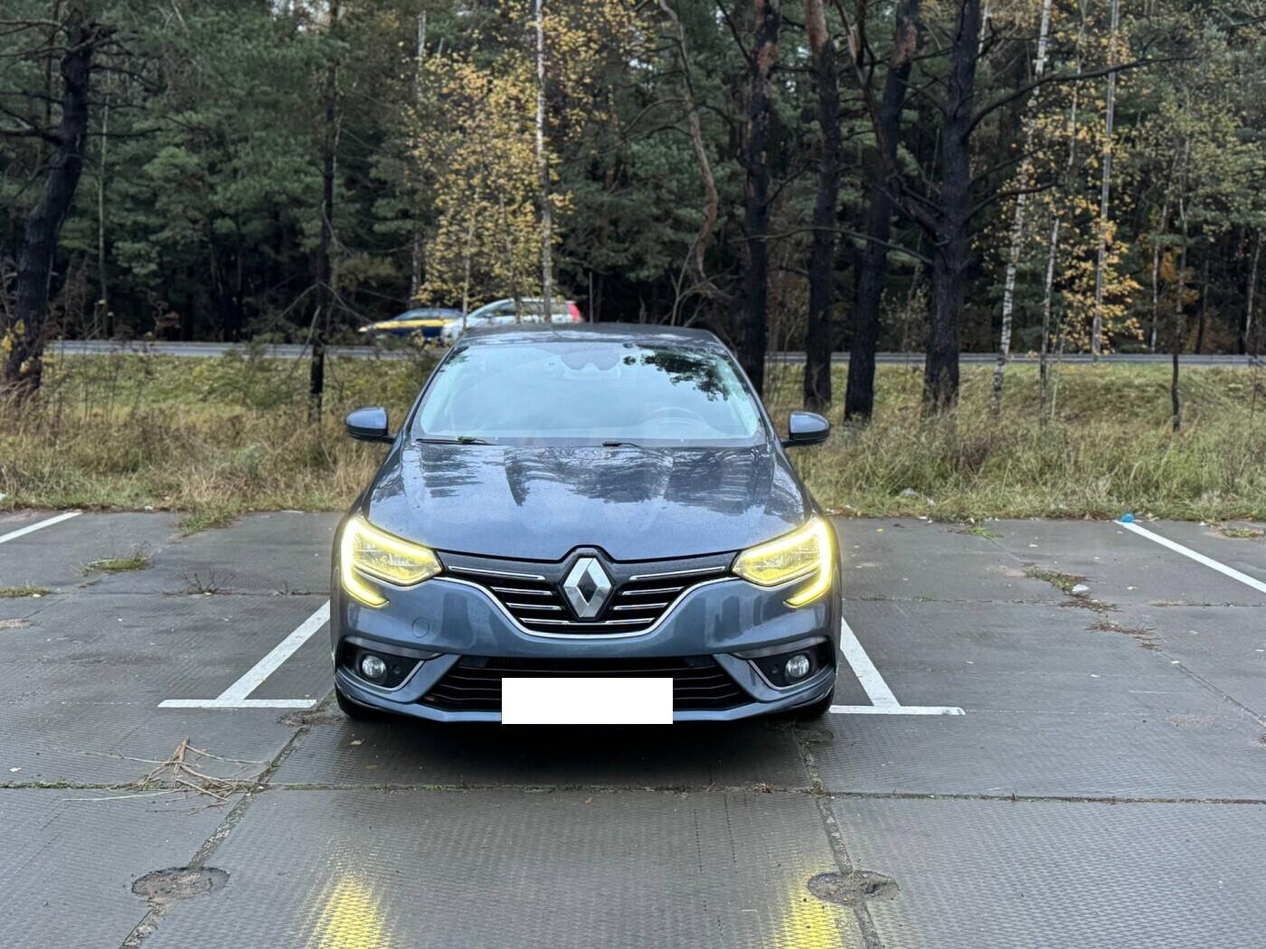Megane_2016-2020: (292, 318, 849, 759)
